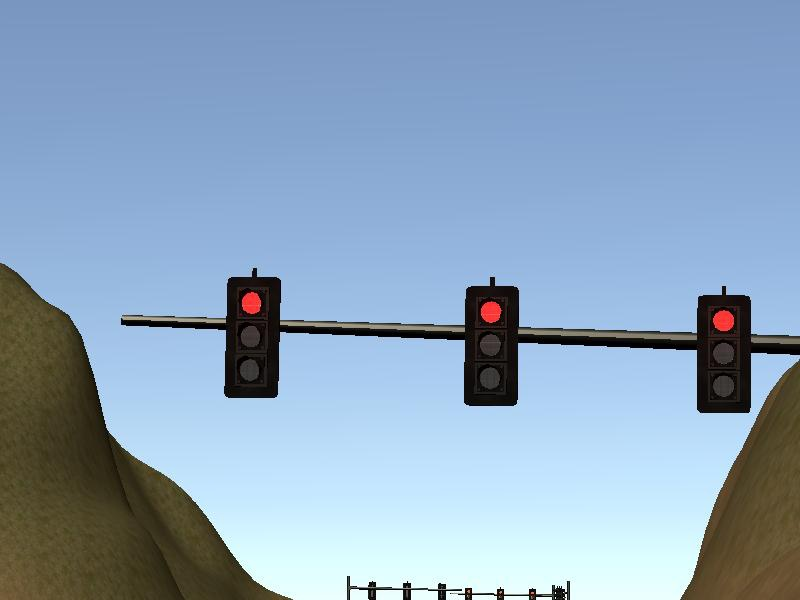red_light: (229, 277, 279, 398), (700, 298, 751, 411), (469, 287, 517, 404)
